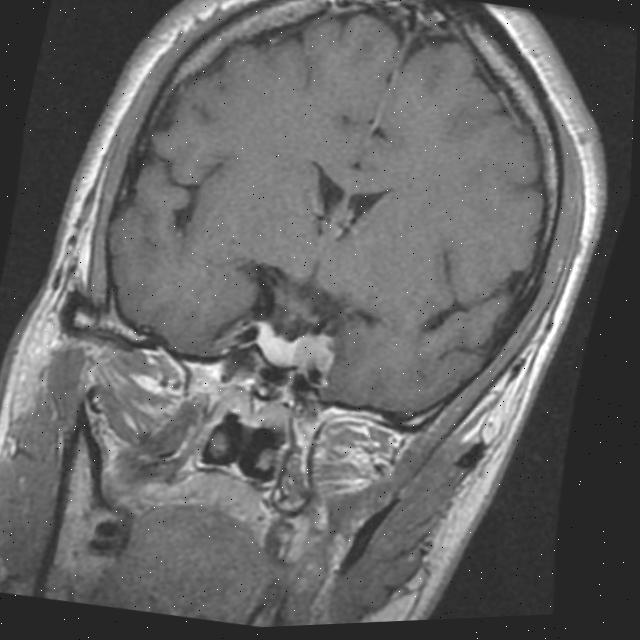Pituitary: (248, 316, 322, 375)
